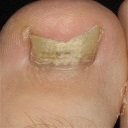Nail Fungal Infection: (29, 28, 104, 64)
